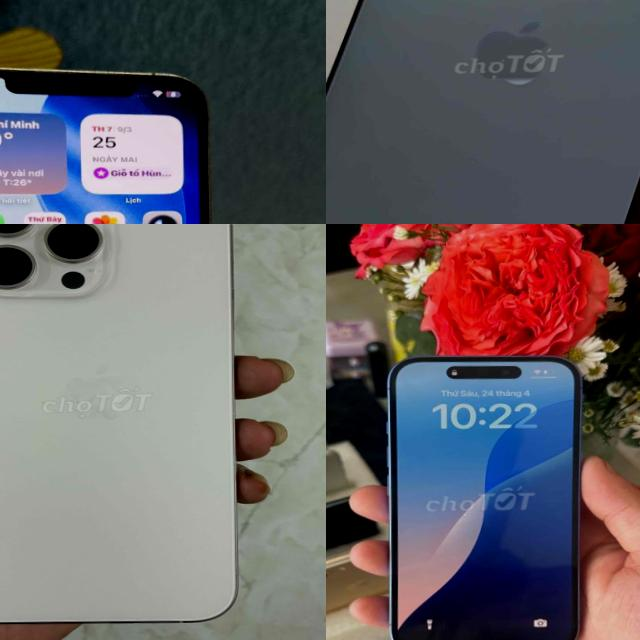gen_12_13: (326, 0, 640, 224), (0, 46, 226, 224)
gen_16: (0, 224, 236, 622), (387, 356, 581, 640)
